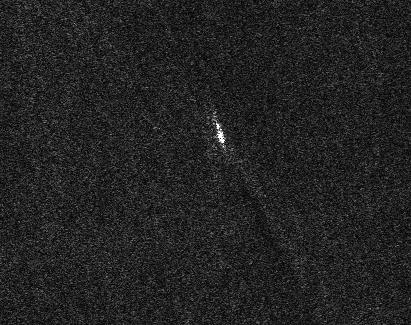ship: (209, 115, 229, 149)
